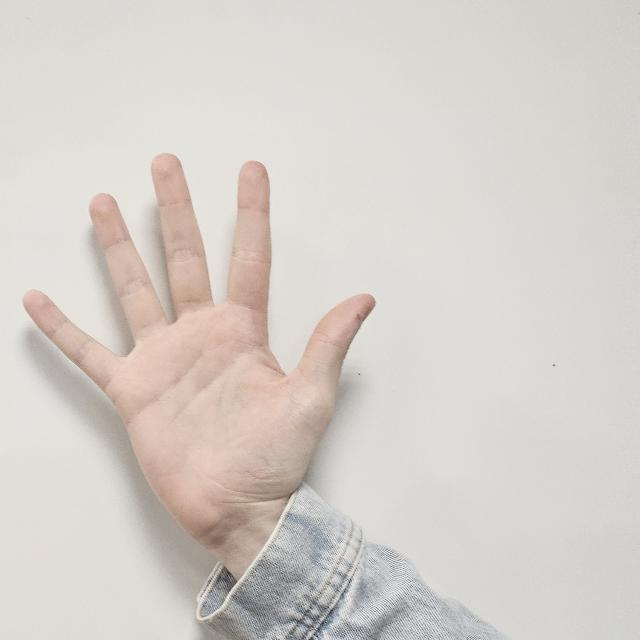X: (22, 150, 374, 528)
